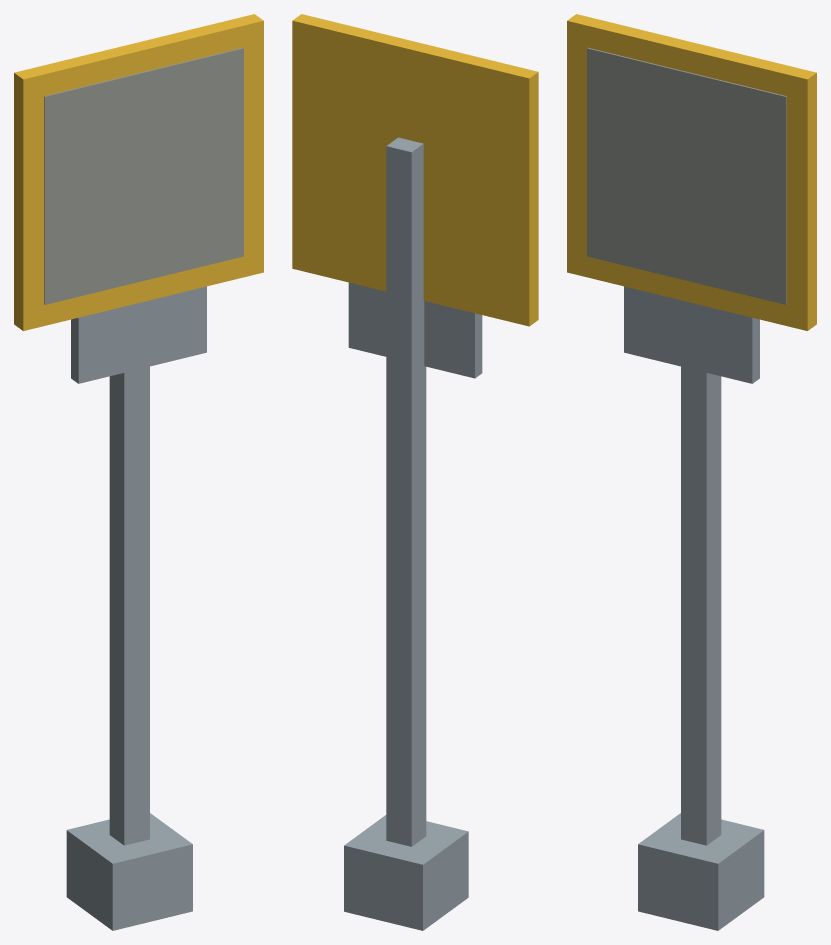
Rendered from sign.gltf.
3 renders of one model, left to right at view 1: azimuth 30°, elevation 25°; view 2: azimuth 150°, elevation 25°; view 3: azimuth 330°, elevation 25°, orthographic.
Parts seen in each view (by area): view 1: sign; view 2: sign; view 3: sign.
Part boxes in pixels (x1=…): sign: x1=14, y1=14, x2=263, y2=930; sign: x1=292, y1=14, x2=538, y2=930; sign: x1=567, y1=14, x2=816, y2=930.
Bounding box in the file's own units: 0.75 × 2.58 × 0.25.
Materials: 1 (1 with a texture image).
